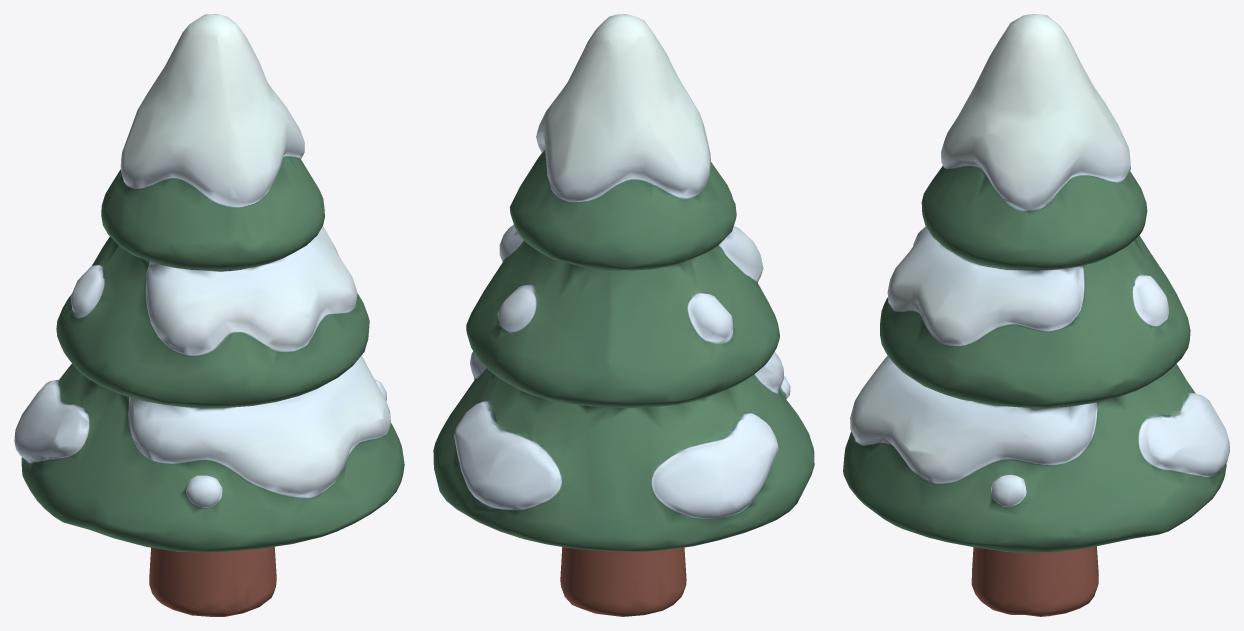
The model's file is tree-d.glb.
3 renders of one model, left to right at view 1: azimuth 30°, elevation 25°; view 2: azimuth 150°, elevation 25°; view 3: azimuth 270°, elevation 25°, orthographic.
Visible parts, largest first — view 1: tripo_node_8c879a5a-52c1-420a-950f-6b281c3969bb; view 2: tripo_node_8c879a5a-52c1-420a-950f-6b281c3969bb; view 3: tripo_node_8c879a5a-52c1-420a-950f-6b281c3969bb.
Part boxes in pixels (x1,y1,x2,y2): tripo_node_8c879a5a-52c1-420a-950f-6b281c3969bb: (14, 14, 404, 616); tripo_node_8c879a5a-52c1-420a-950f-6b281c3969bb: (433, 14, 814, 616); tripo_node_8c879a5a-52c1-420a-950f-6b281c3969bb: (843, 14, 1229, 616).
Size of the model in its own units: 0.6008 by 1 by 0.6063.
1 material, 1 textured.
